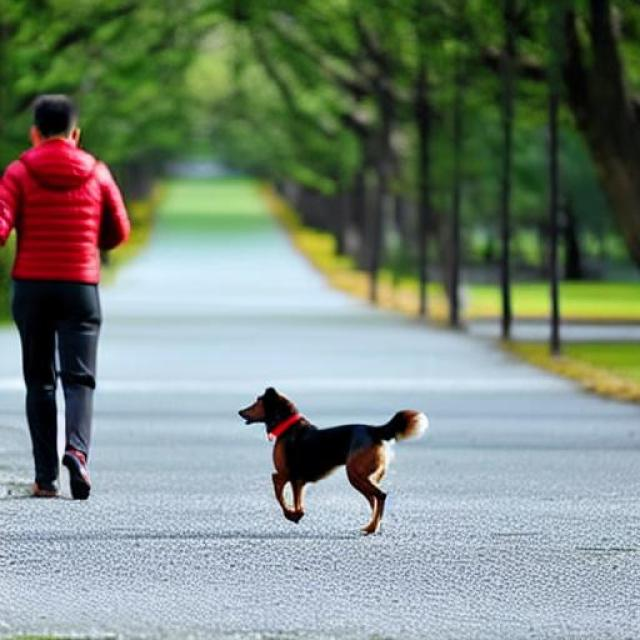Unleashed_Dog: (11, 244, 428, 536)
